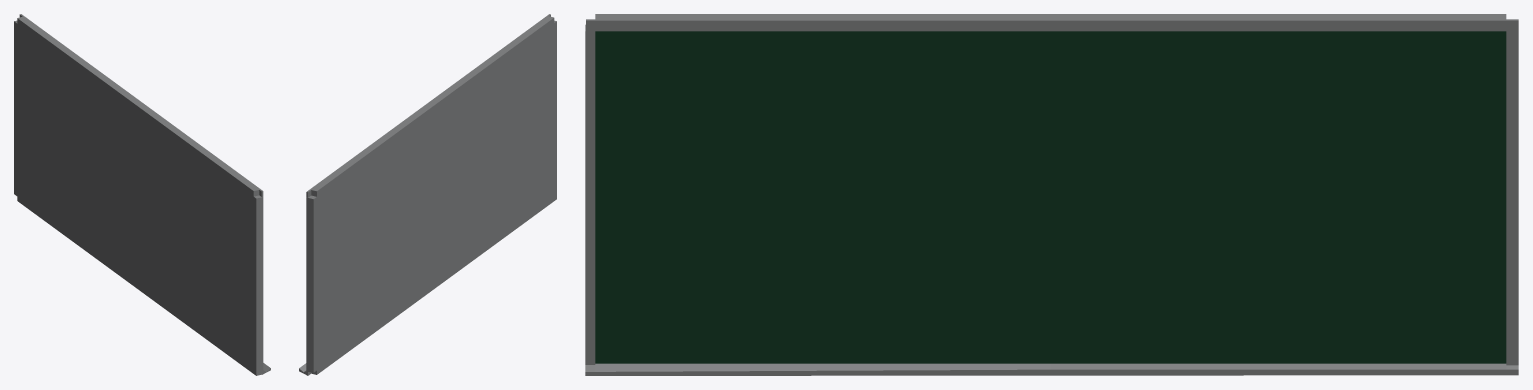
File: chalkboard.fbx
3 renders of one model, left to right at view 1: azimuth 30°, elevation 25°; view 2: azimuth 150°, elevation 25°; view 3: azimuth 270°, elevation 25°, orthographic. The views are drawn at different scales.
Parts seen in each view (by area): view 1: Cube; view 2: Cube; view 3: Cube.
Part boxes in pixels (x1,y1,x2,y2): Cube: (14,14,270,375); Cube: (299,14,556,375); Cube: (585,14,1518,375).
Size of the model in its own units: 28.65 by 344 by 825.
